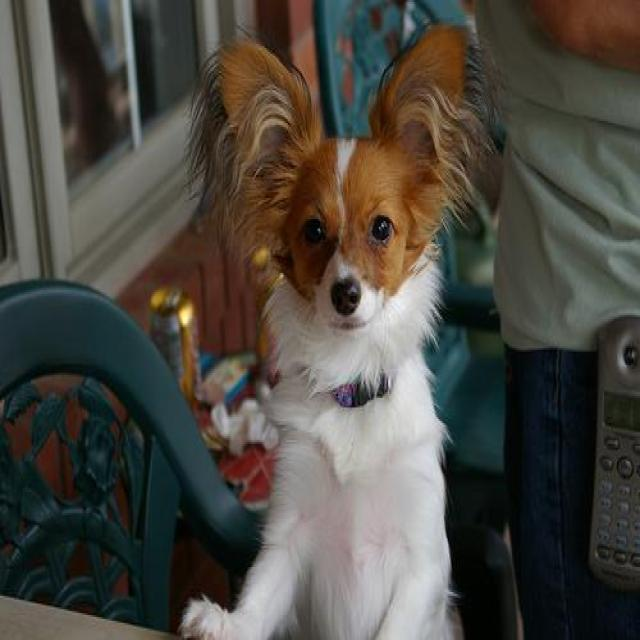papillon: (180, 16, 502, 636)
